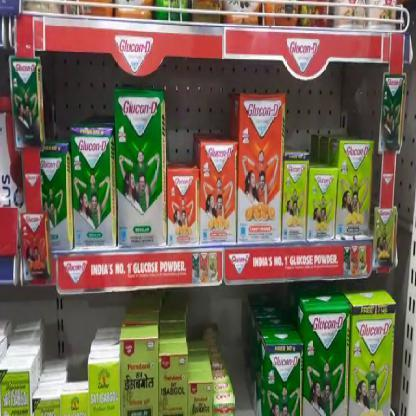Glucon D Nimbu Pani 1-KG: (352, 298, 392, 416), (338, 143, 370, 235)
Glucon D Regular 1-KG: (115, 99, 159, 244), (72, 132, 113, 250), (306, 306, 348, 415)
Glucon D Tangy orange 1-KG: (240, 98, 284, 242), (199, 140, 235, 241)
